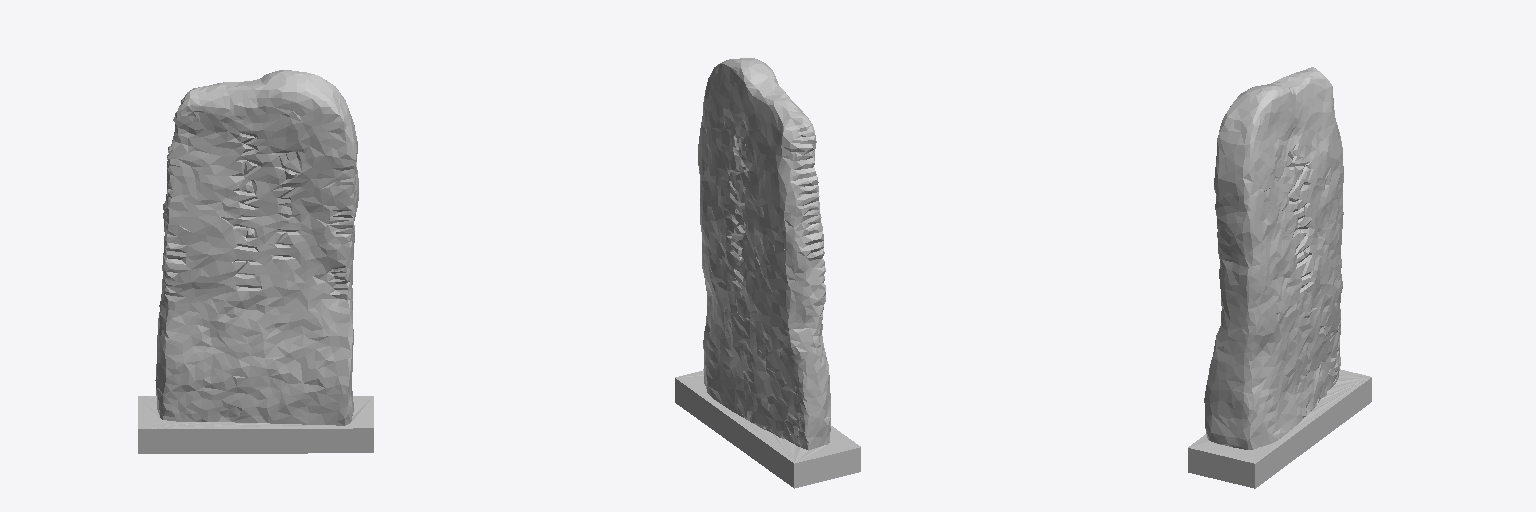
File: decimated_standing_stone.obj
3 renders of one model, left to right at view 1: azimuth 30°, elevation 25°; view 2: azimuth 150°, elevation 25°; view 3: azimuth 270°, elevation 25°, orthographic.
Visible parts, largest first — view 1: sutton-hoo-room-devon-stela; view 2: sutton-hoo-room-devon-stela; view 3: sutton-hoo-room-devon-stela.
Part boxes in pixels (bbox=[...]): sutton-hoo-room-devon-stela: bbox=[138, 70, 373, 453]; sutton-hoo-room-devon-stela: bbox=[675, 58, 860, 488]; sutton-hoo-room-devon-stela: bbox=[1188, 67, 1371, 488].
Bounding box in the file's own units: 3.97 × 6.5 × 3.